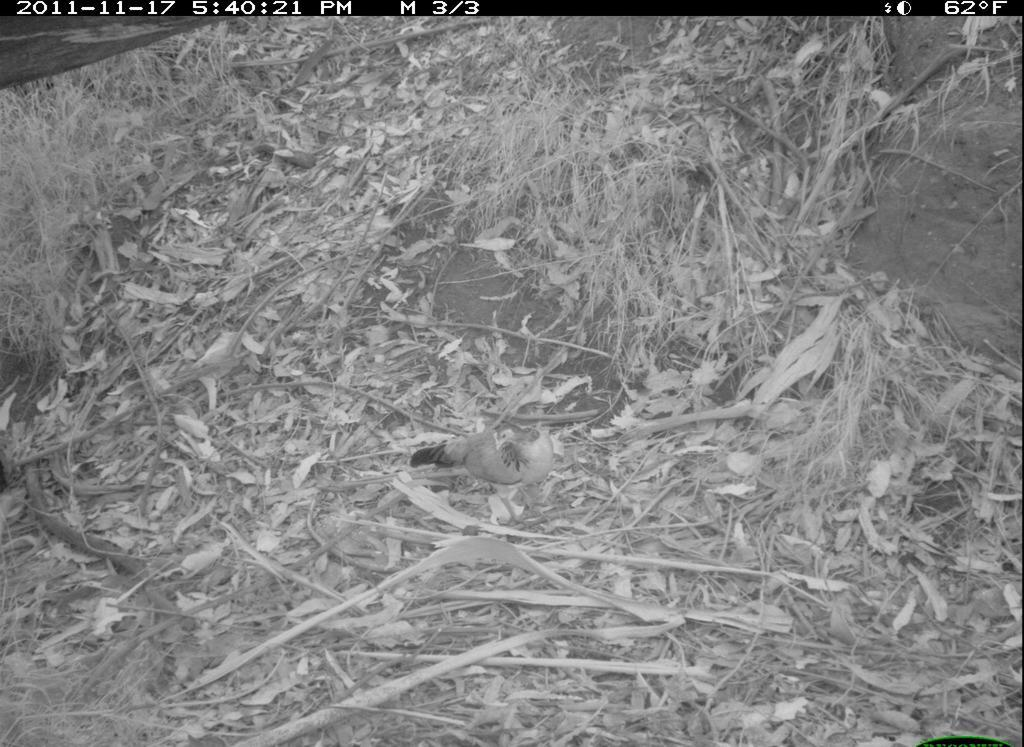bird: (410, 421, 557, 529)
